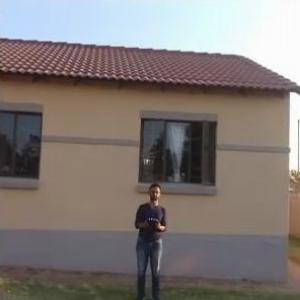follow: (127, 179, 171, 299)
